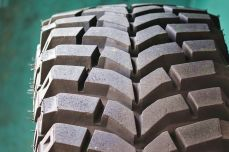new_condition: (32, 3, 229, 148)
